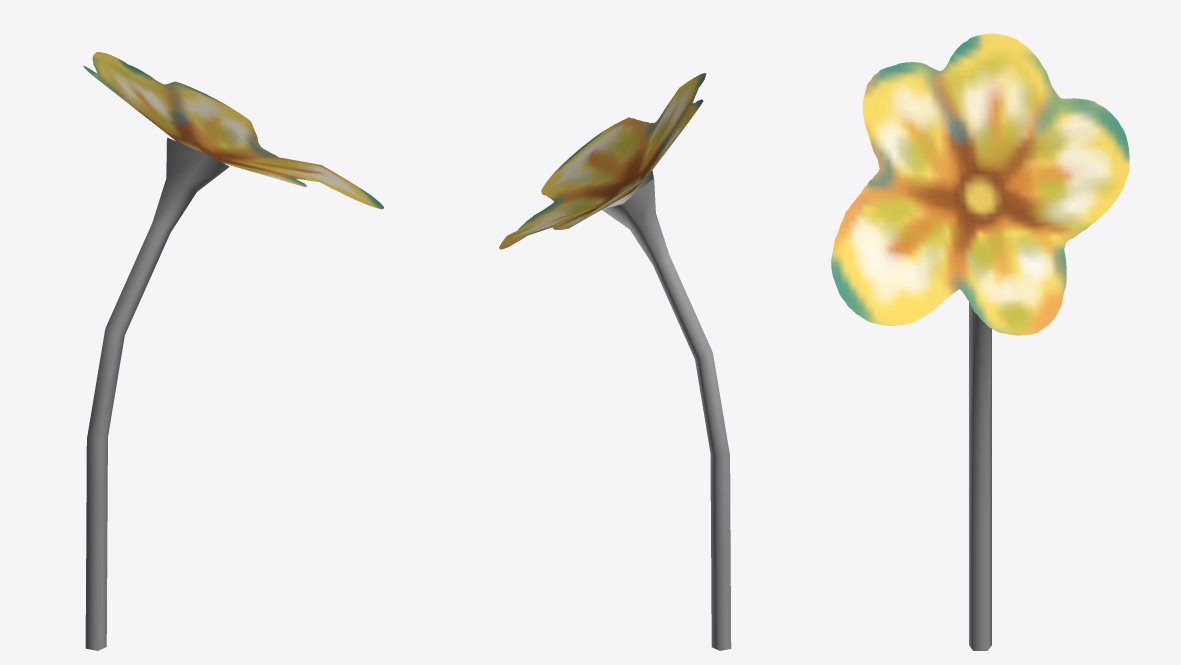
Rendered from FlowerSingle3.fbx.
3 renders of one model, left to right at view 1: azimuth 30°, elevation 25°; view 2: azimuth 150°, elevation 25°; view 3: azimuth 270°, elevation 25°, orthographic. The views are drawn at different scales.
Visible parts, largest first — view 1: FlowerSingle3; view 2: FlowerSingle3; view 3: FlowerSingle3.
Part boxes in pixels (left/top/right/bottom): FlowerSingle3: left=83, top=52, right=383, bottom=650; FlowerSingle3: left=499, top=73, right=731, bottom=650; FlowerSingle3: left=831, top=33, right=1129, bottom=650.
Bounding box in the file's own units: 0.4164 × 0.9228 × 0.4764.
